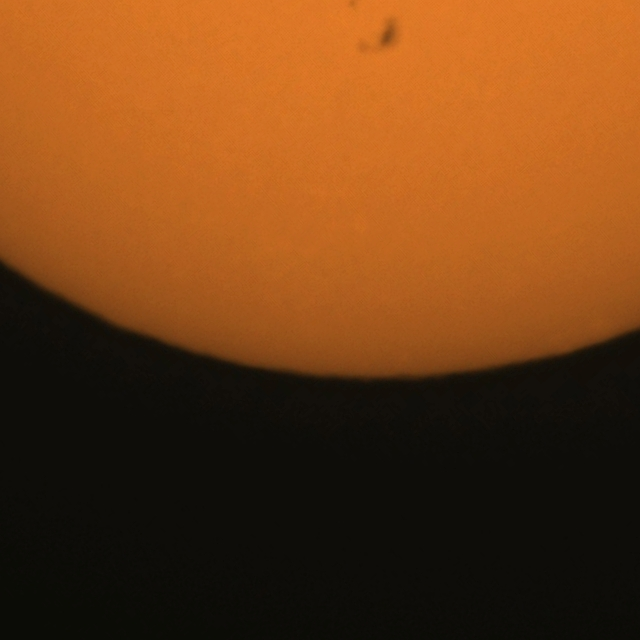sunspot: (343, 0, 411, 68)
